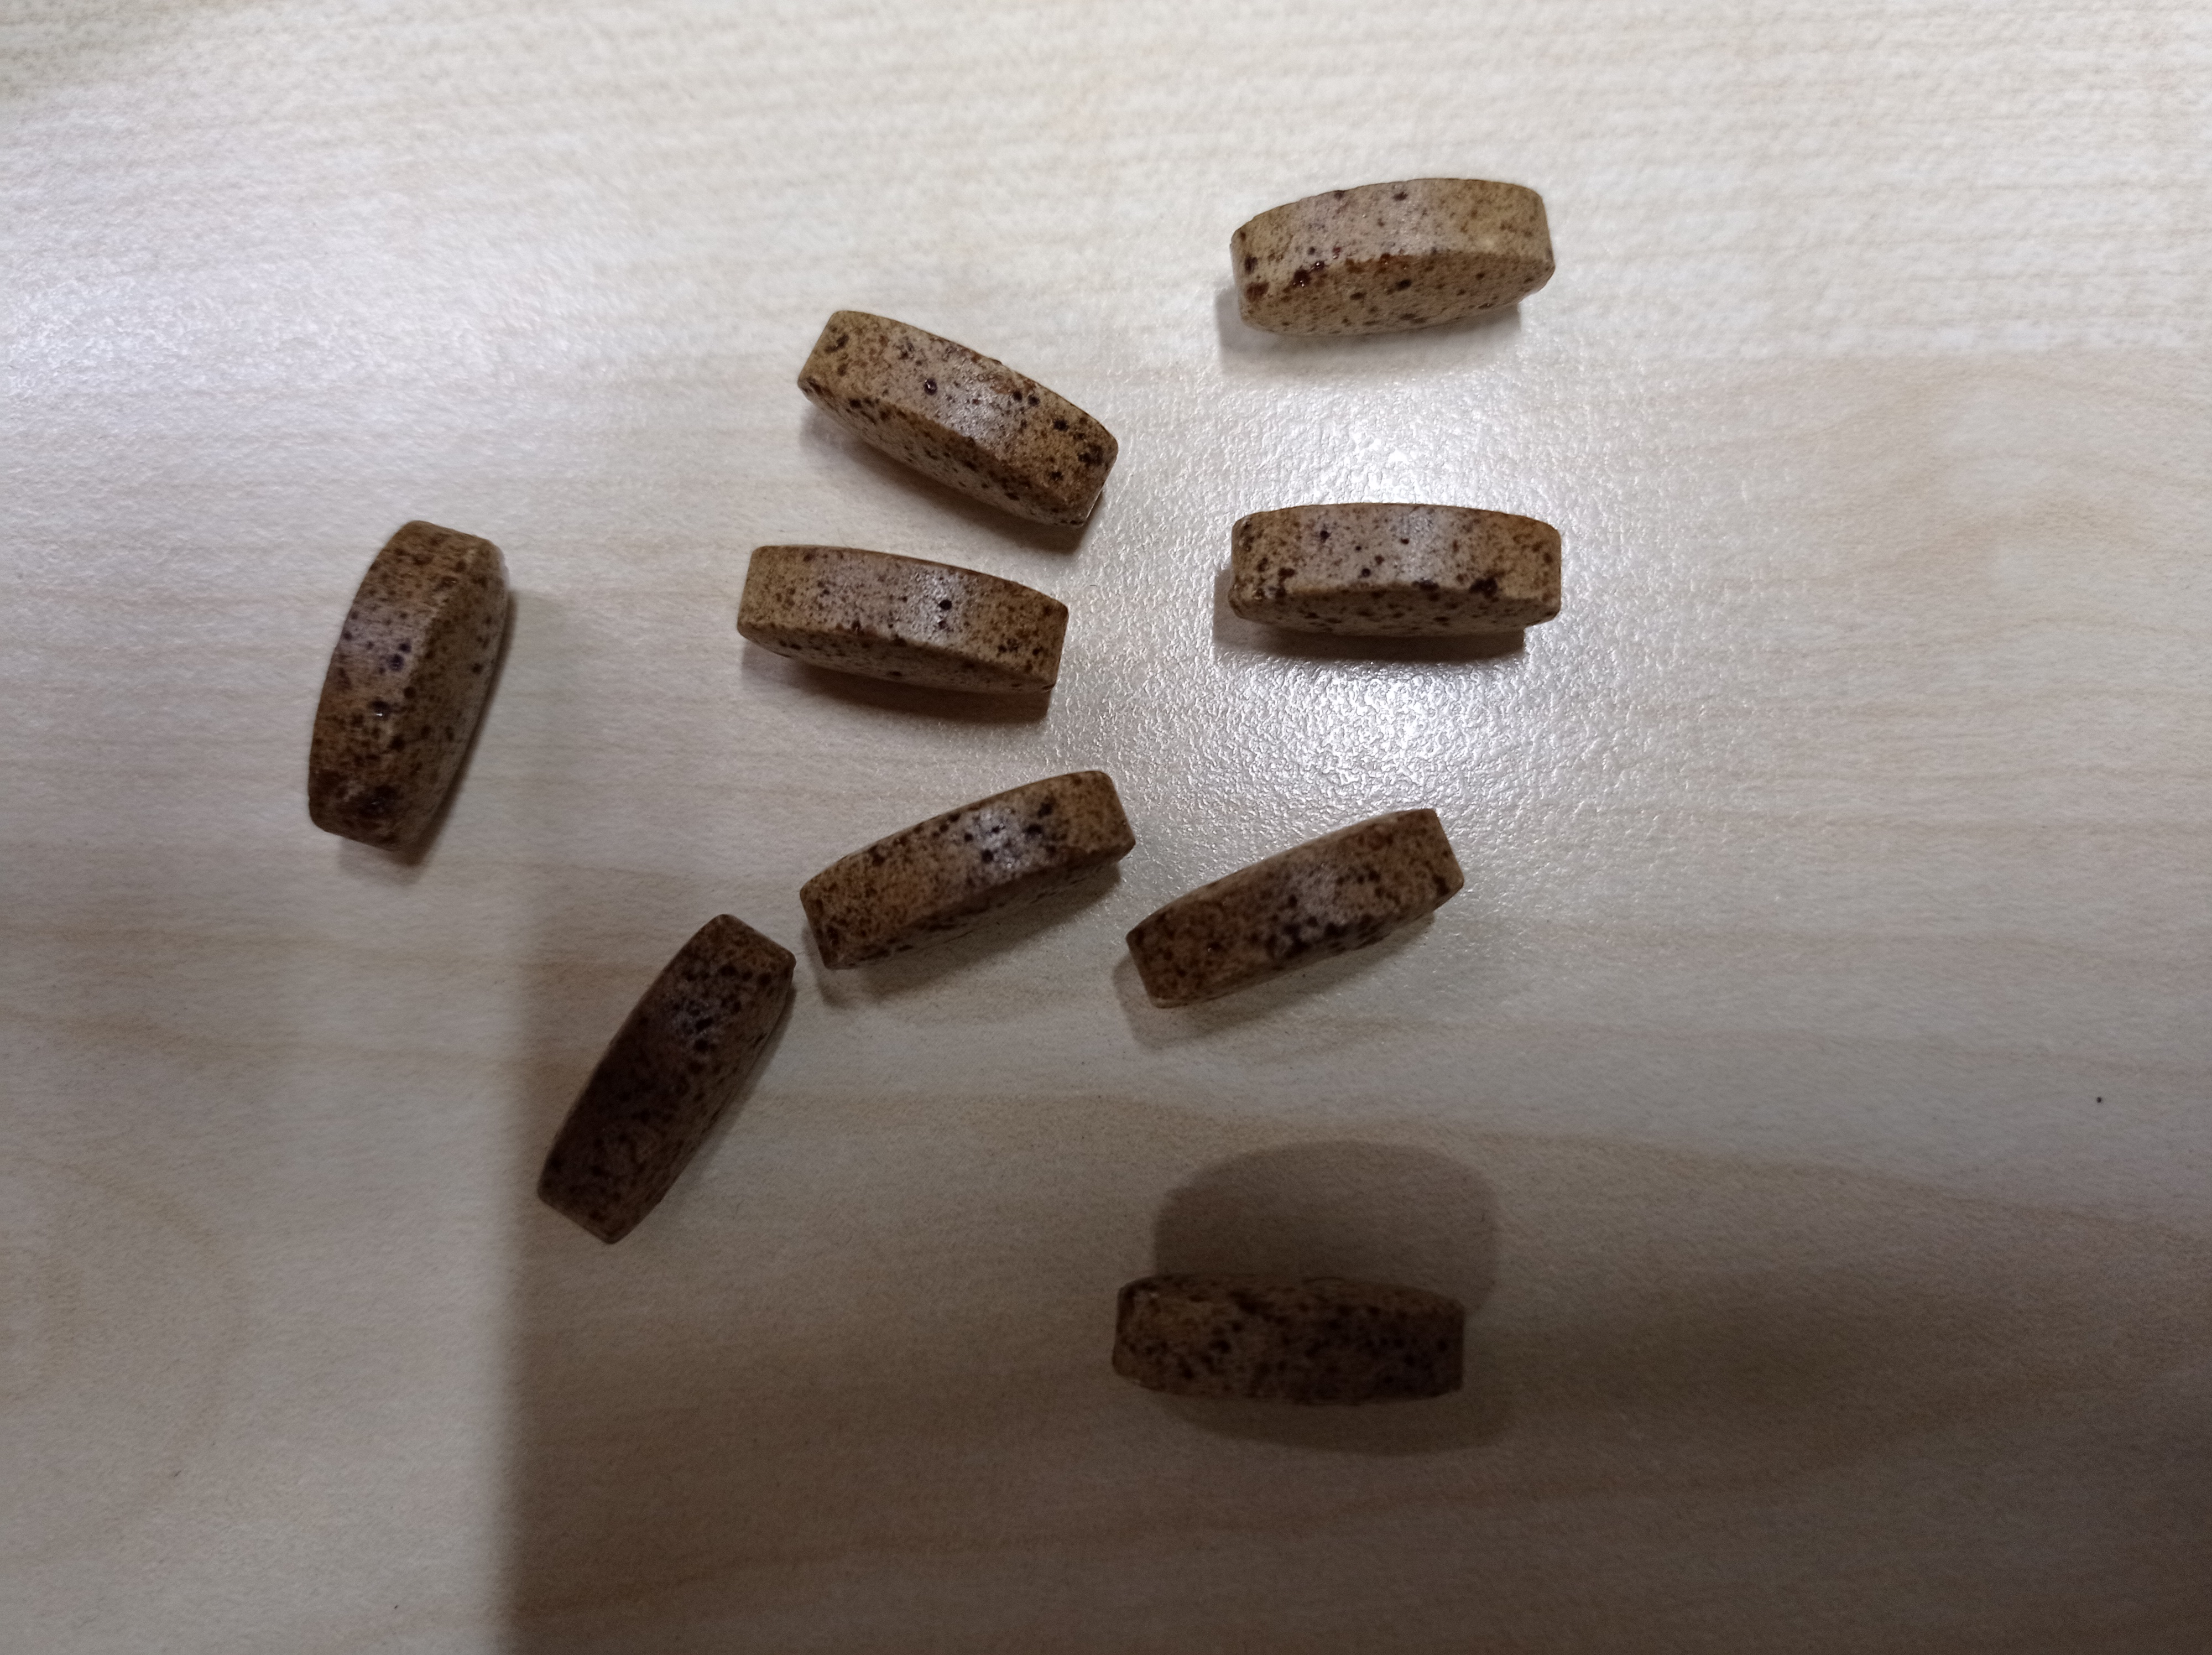brown_medicine: (537, 913, 792, 1248), (801, 772, 1138, 991), (799, 308, 1121, 535), (1124, 805, 1470, 1015), (306, 522, 506, 855), (1229, 179, 1559, 339), (738, 542, 1062, 704), (1109, 1274, 1465, 1415), (1232, 504, 1569, 628)
